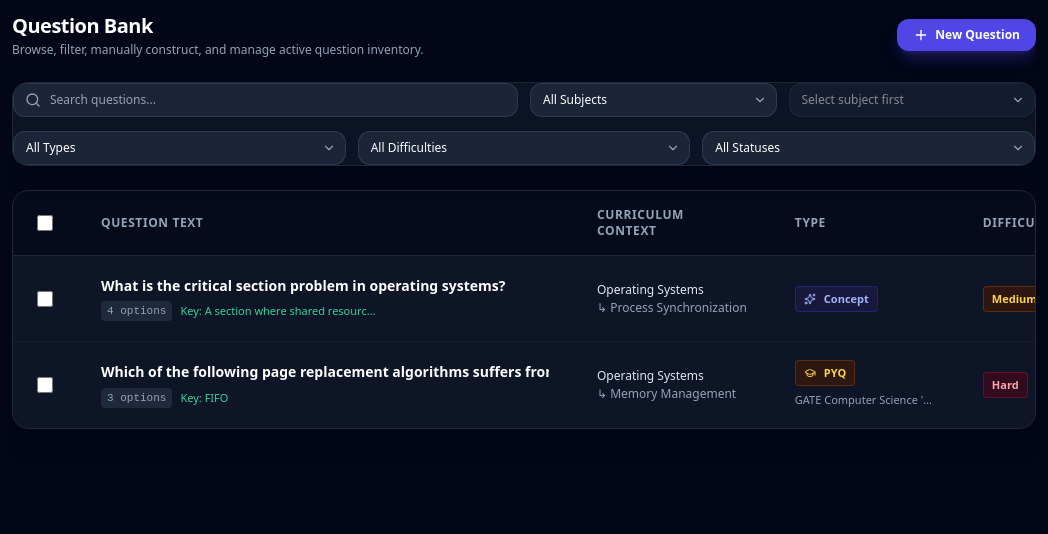
Test: Admin Question Management UI (PROMPT 13) › supports setting difficulty in bulk for selected questions
Note: Select individual question
Click the checkbox named "Select question q-1": (45, 299) [37, 291, 53, 307]
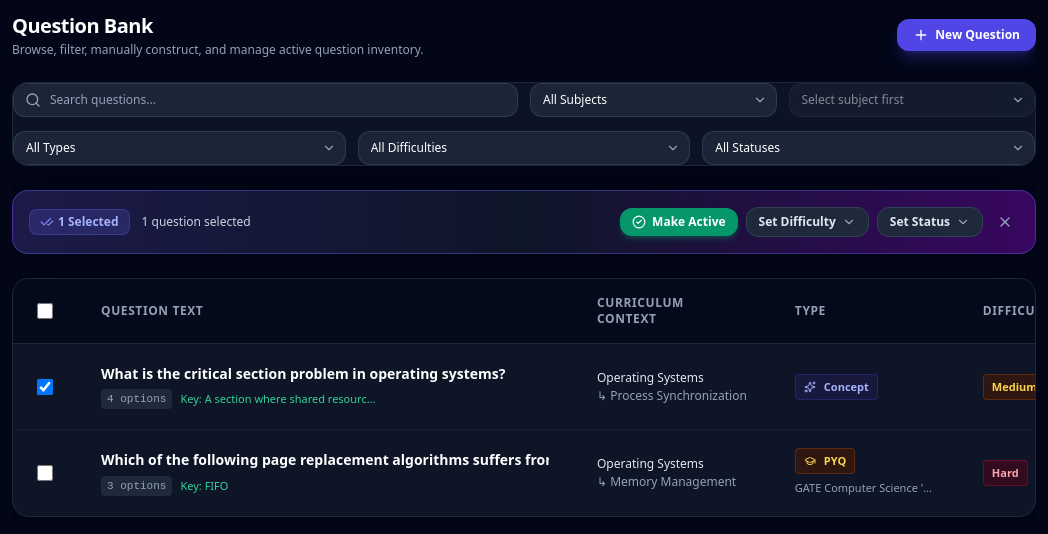
Expected: the text "1 Selected" is shown, [29, 209, 130, 235]
Expected: the button "Set Difficulty" is shown
Note: Open difficulty menu
Click the button "Set Difficulty": (807, 222) [746, 207, 869, 237]
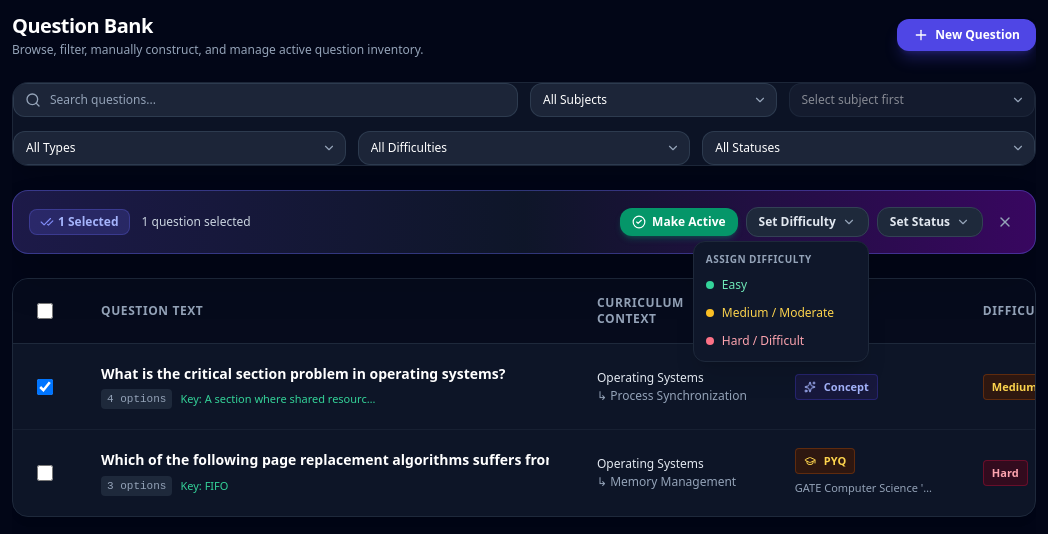
Expected: the text "Hard / Difficult" is shown, [722, 333, 804, 349]
Click the button "Hard / Difficult": (781, 341) [694, 327, 868, 355]
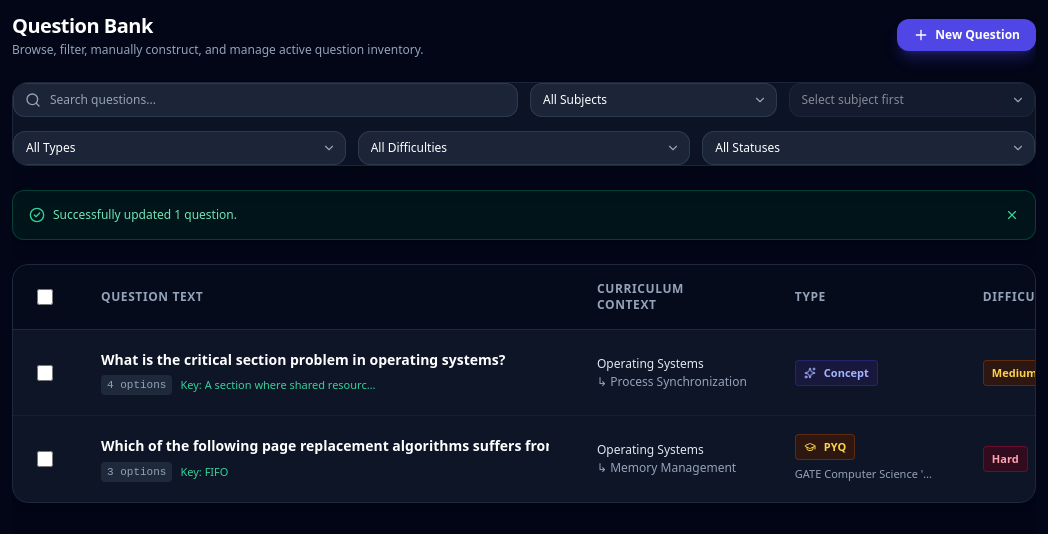
Expected: the text "Successfully updated 1 question." is shown, [53, 207, 237, 223]
